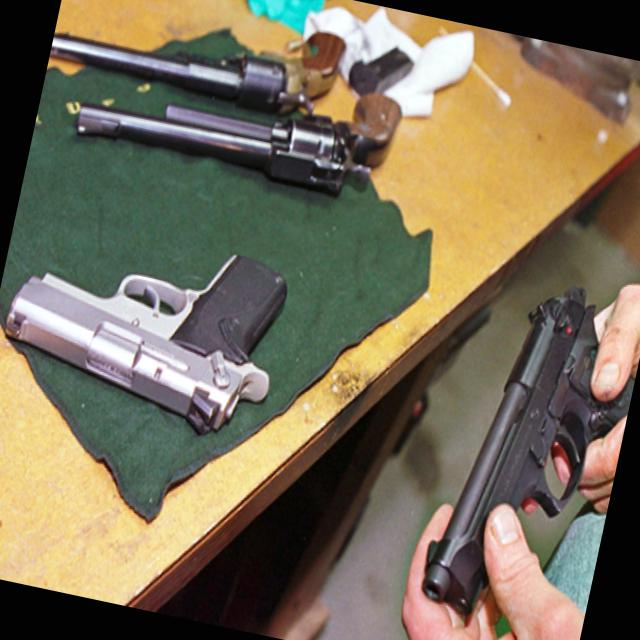handgun: (394, 239, 639, 639), (0, 182, 307, 463), (64, 22, 405, 200)
